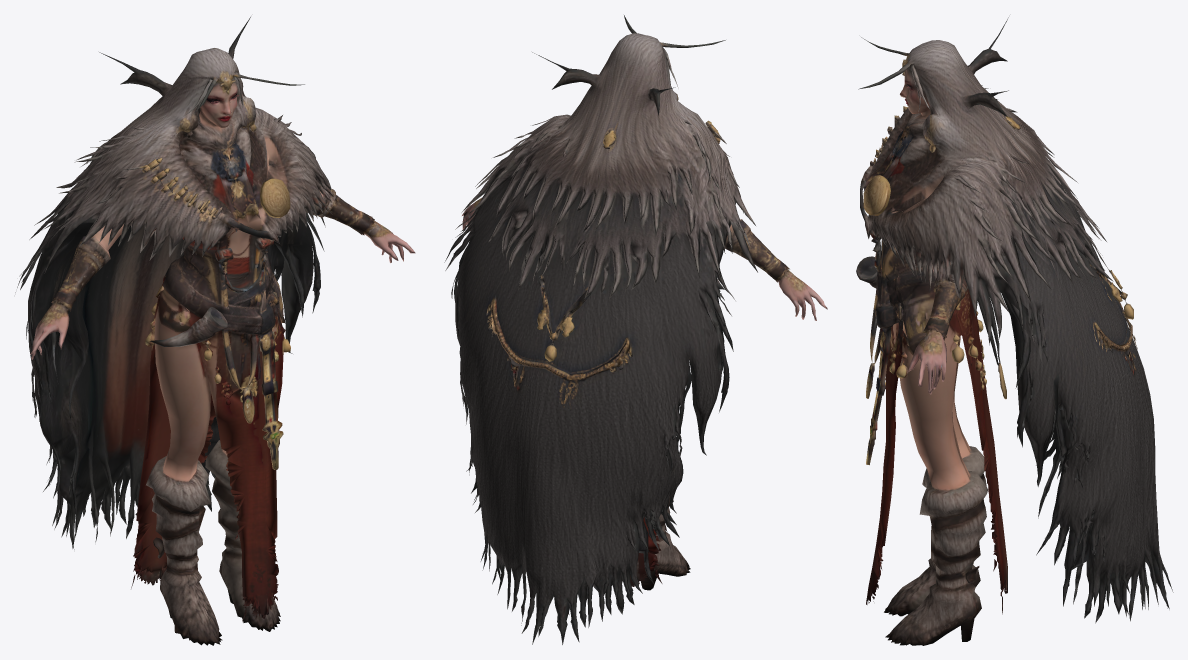
The model's file is female.glb.
3 views of the same model, side by side, from view 1: azimuth 30°, elevation 25°; view 2: azimuth 150°, elevation 25°; view 3: azimuth 270°, elevation 25° (orthographic). The views are drawn at different scales.
Visible parts, largest first — view 1: tripo_node_aedf2fa8-7e2a-4c61-a1ab-d213227d8b67; view 2: tripo_node_aedf2fa8-7e2a-4c61-a1ab-d213227d8b67; view 3: tripo_node_aedf2fa8-7e2a-4c61-a1ab-d213227d8b67.
Boxes of the visible parts, left/top/right/bottom form: tripo_node_aedf2fa8-7e2a-4c61-a1ab-d213227d8b67: left=15, top=17, right=415, bottom=645; tripo_node_aedf2fa8-7e2a-4c61-a1ab-d213227d8b67: left=444, top=15, right=827, bottom=644; tripo_node_aedf2fa8-7e2a-4c61-a1ab-d213227d8b67: left=856, top=17, right=1173, bottom=645.
Bounding box in the file's own units: 0.7104 × 1 × 0.499.
Materials: 1 (1 with a texture image).
